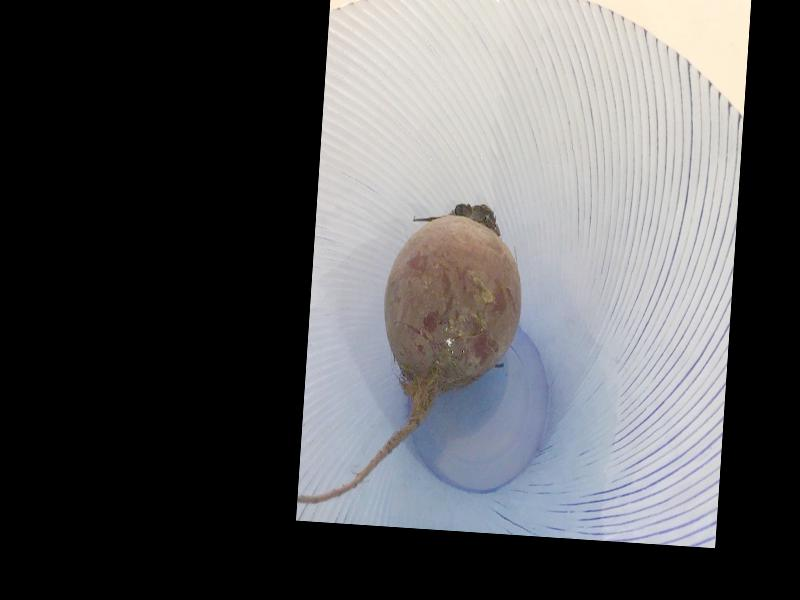Beet: (296, 191, 527, 515)
